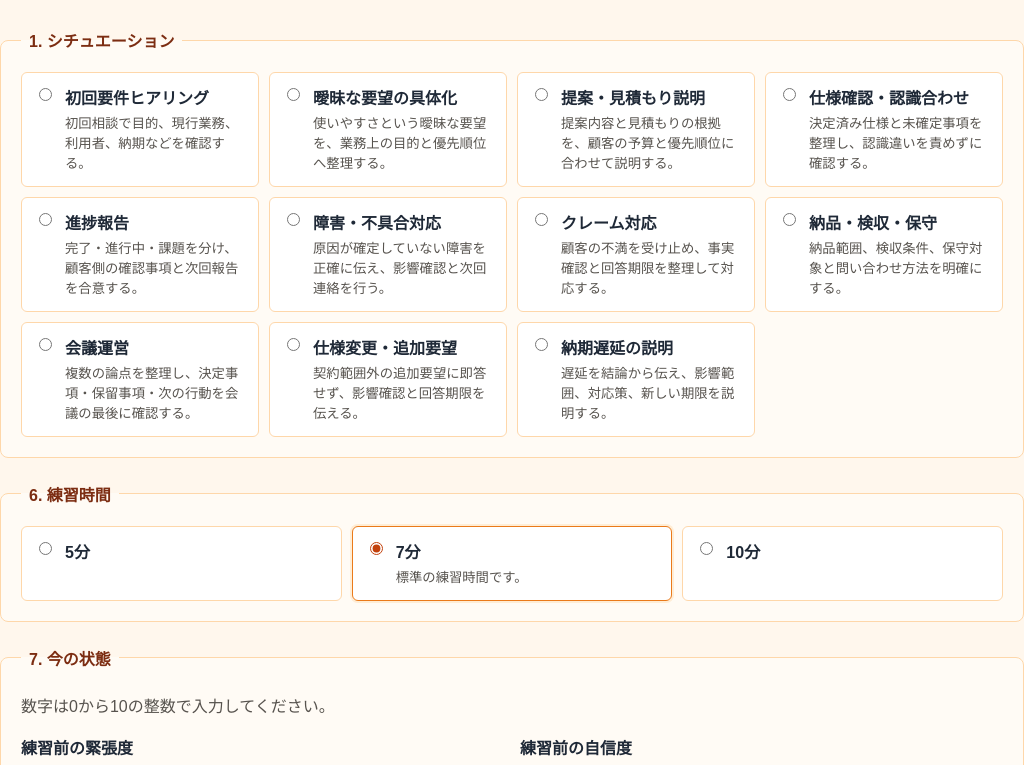
Test: PracticeSetupForm › updates the selected visual state and clears a dependent scene when the situation changes
Step 1. Click the radio button labelled "初回要件ヒアリング 初回相談で目的、現行業務、利用者、納期などを確認する。" → (46, 94), box top-left (39, 88), bottom-right (52, 101)
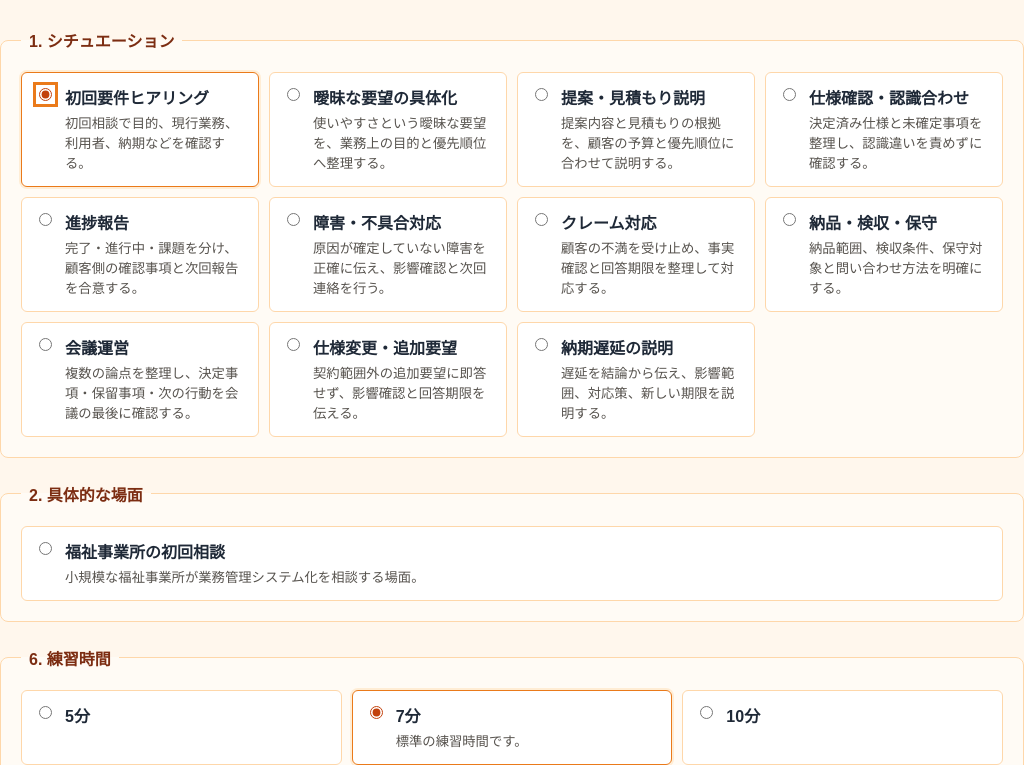
Step 2. Click the radio button labelled "福祉事業所の初回相談 小規模な福祉事業所が業務管理システム化を相談する場面。" → (46, 548), box top-left (39, 542), bottom-right (52, 555)
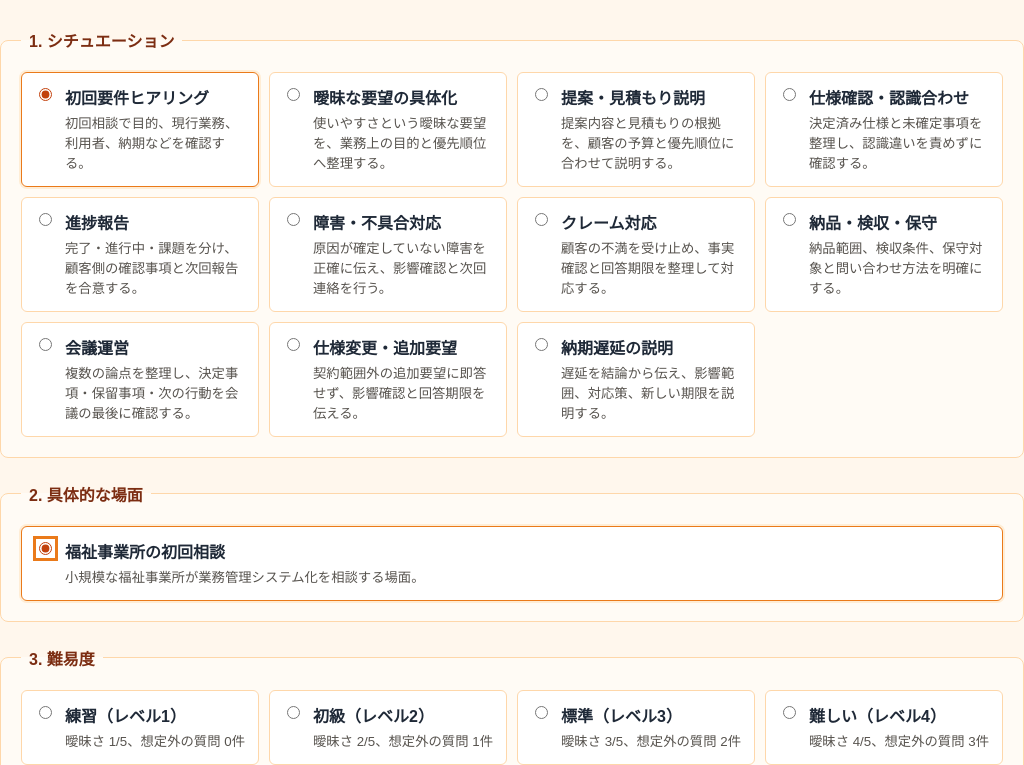
Check: the radio button labelled "福祉事業所の初回相談 小規模な福祉事業所が業務管理システム化を相談する場面。" is checked, box top-left (39, 542), bottom-right (52, 555)
Step 3. Click the radio button labelled "仕様変更・追加要望 契約範囲外の追加要望に即答せず、影響確認と回答期限を伝える。" → (294, 344), box top-left (287, 338), bottom-right (300, 351)
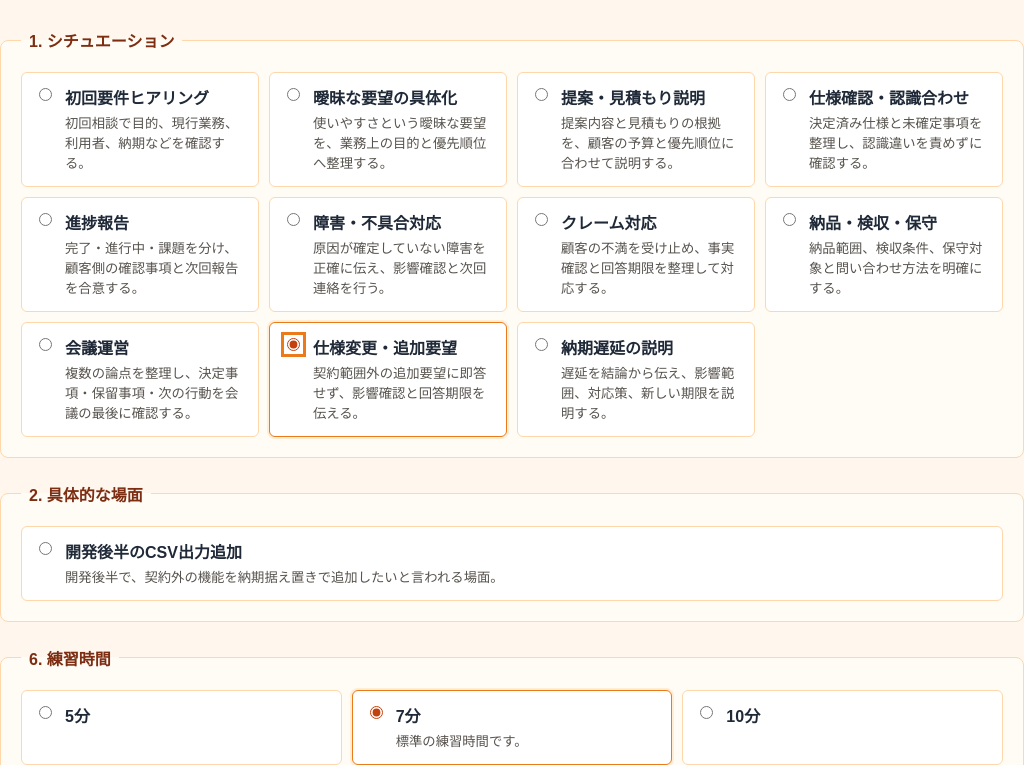
Check: the text "福祉事業所の初回相談" is gone
Check: the radio button labelled "開発後半のCSV出力追加 開発後半で、契約外の機能を納期据え置きで追加したいと言われる場面。" is not checked, box top-left (39, 542), bottom-right (52, 555)
